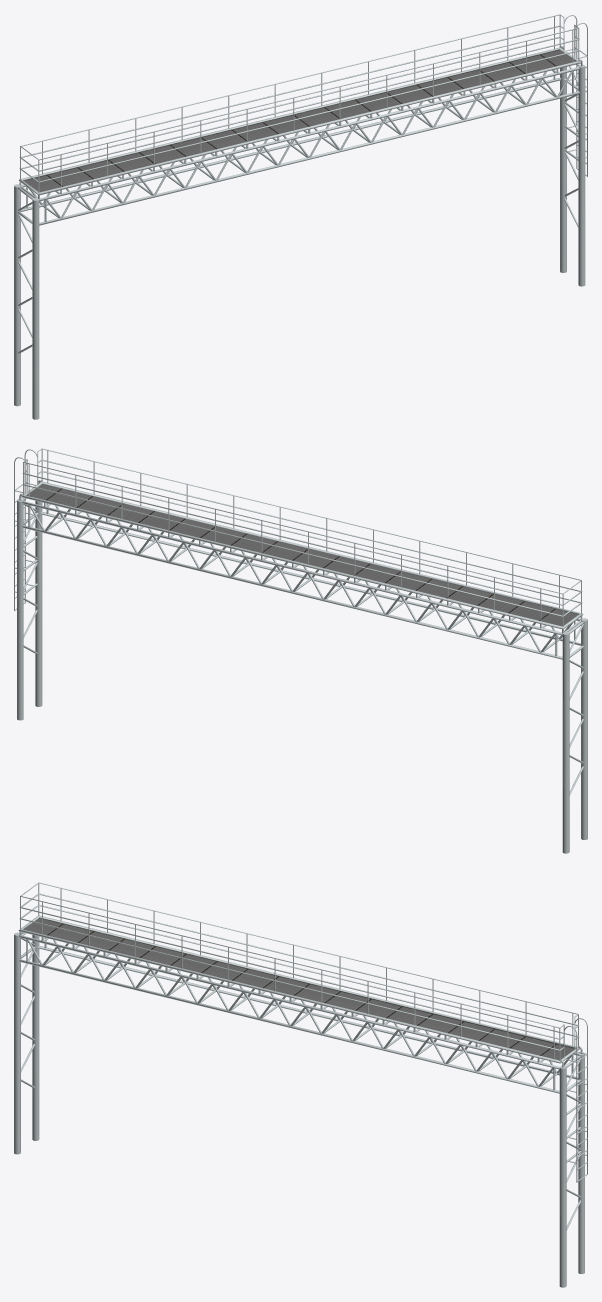
The model's file is lmj_01_03.glb.
The picture shows the model from 3 angles, top to bottom: view 1: azimuth 30°, elevation 25°; view 2: azimuth 150°, elevation 25°; view 3: azimuth 330°, elevation 25°; orthographic projection.
Visible parts, largest first — view 1: lmj_01_03; view 2: lmj_01_03; view 3: lmj_01_03.
Part boxes in pixels (x1=…): lmj_01_03: x1=14, y1=14, x2=587, y2=419; lmj_01_03: x1=14, y1=448, x2=587, y2=853; lmj_01_03: x1=14, y1=882, x2=587, y2=1287.
Size of the model in its own units: 18.17 by 8.01 by 1.24.
2 materials, 2 textured.
